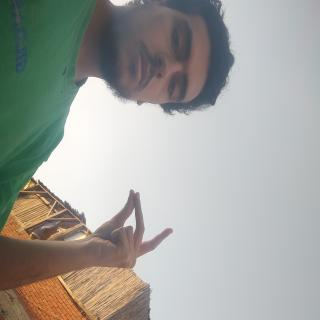TAA: (140, 190, 207, 302)
